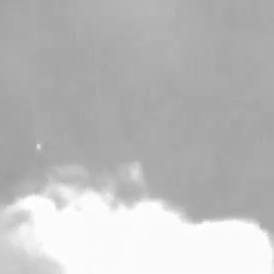Target: (37, 144, 40, 148)
